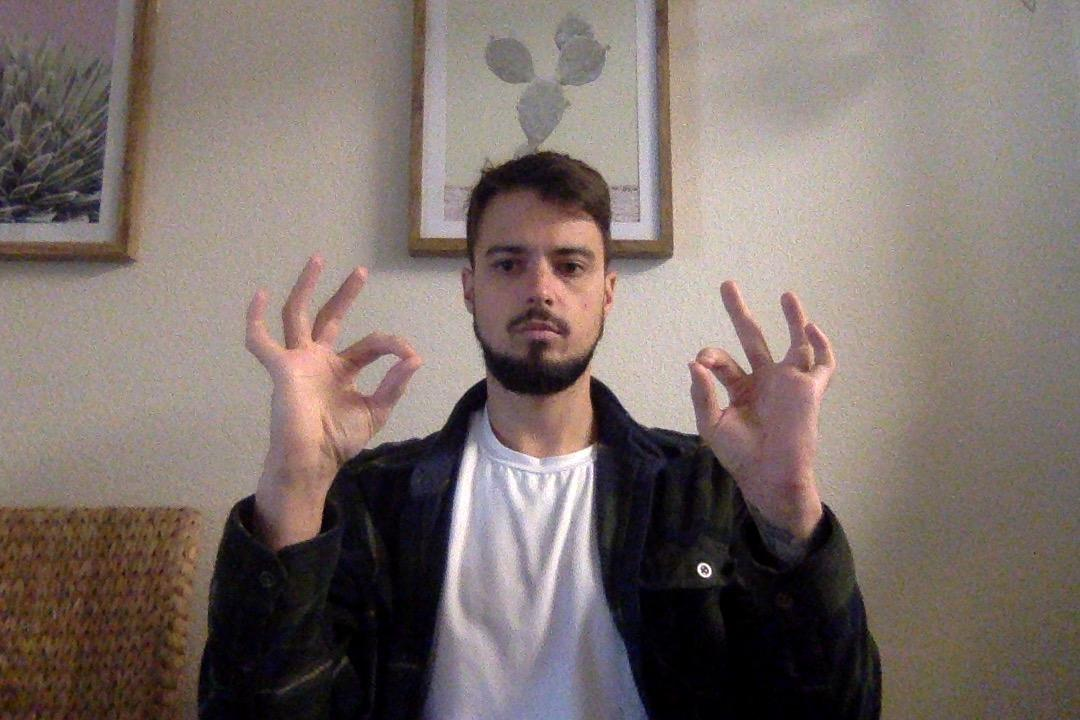Okay: (239, 253, 427, 501), (680, 281, 843, 530)
